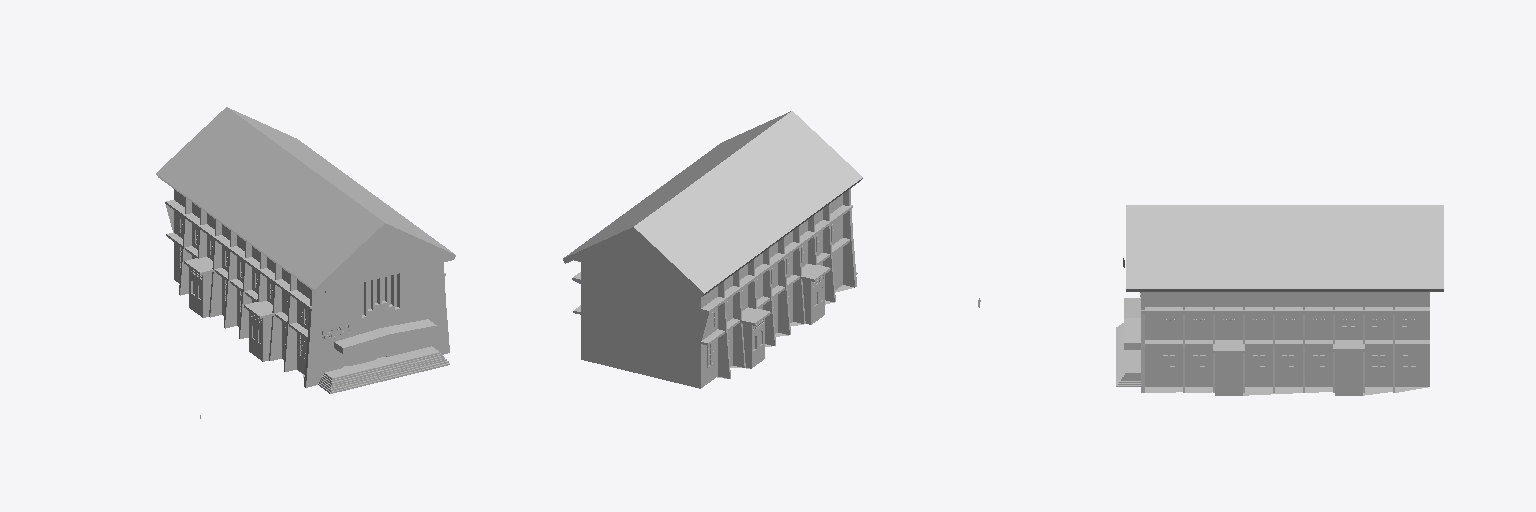
Rendered from Gereja Ignatius.obj.
The picture shows the model from 3 angles: view 1: azimuth 30°, elevation 25°; view 2: azimuth 150°, elevation 25°; view 3: azimuth 270°, elevation 25°; orthographic projection.
Parts seen in each view (by area): view 1: Mesh27 Model; view 2: Mesh27 Model; view 3: Mesh27 Model.
Boxes of the visible parts, x1,y1,x2,y2 form: Mesh27 Model: [156, 107, 455, 393]; Mesh27 Model: [563, 111, 862, 388]; Mesh27 Model: [1116, 205, 1443, 395].
Size of the model in its own units: 53.68 by 29.19 by 56.8.